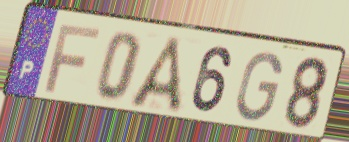0: (94, 29, 143, 105)
6: (189, 44, 233, 117)
8: (281, 55, 330, 132)
A: (125, 34, 184, 117)
F: (42, 22, 103, 96)
G: (234, 49, 284, 124)
